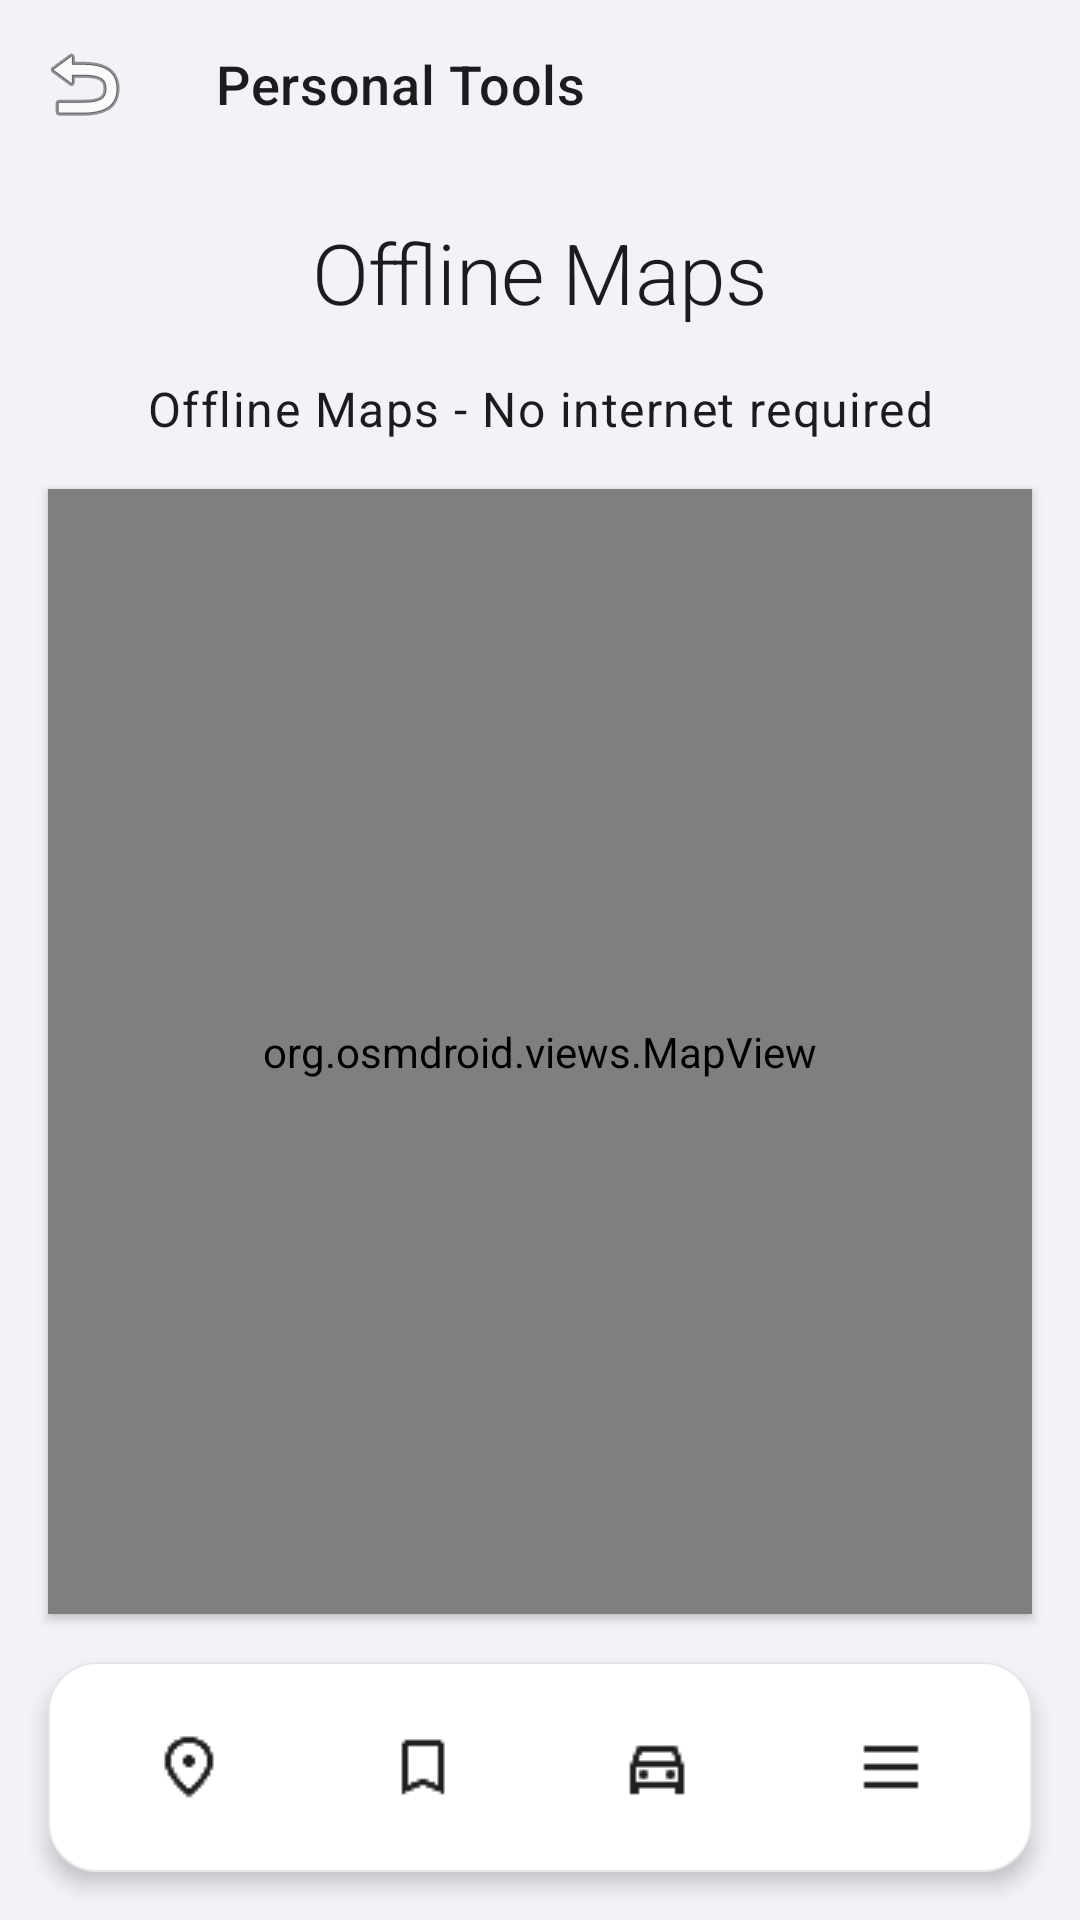

Icon click points for this 1080*1920 phone screenshot, format point (x, y):
Bookmark: point (423, 1767)
Car: point (657, 1770)
Location: point (189, 1767)
Menu: point (891, 1767)
